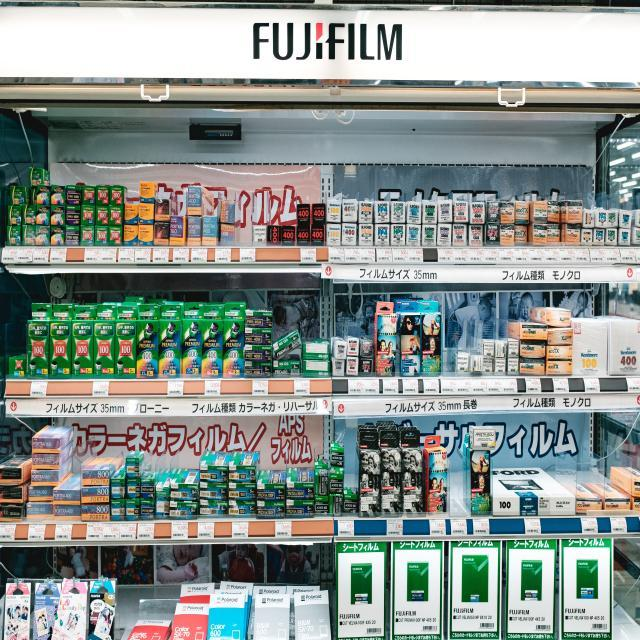Imprecise: (271, 326, 301, 361), (547, 199, 566, 244), (23, 186, 36, 246)
